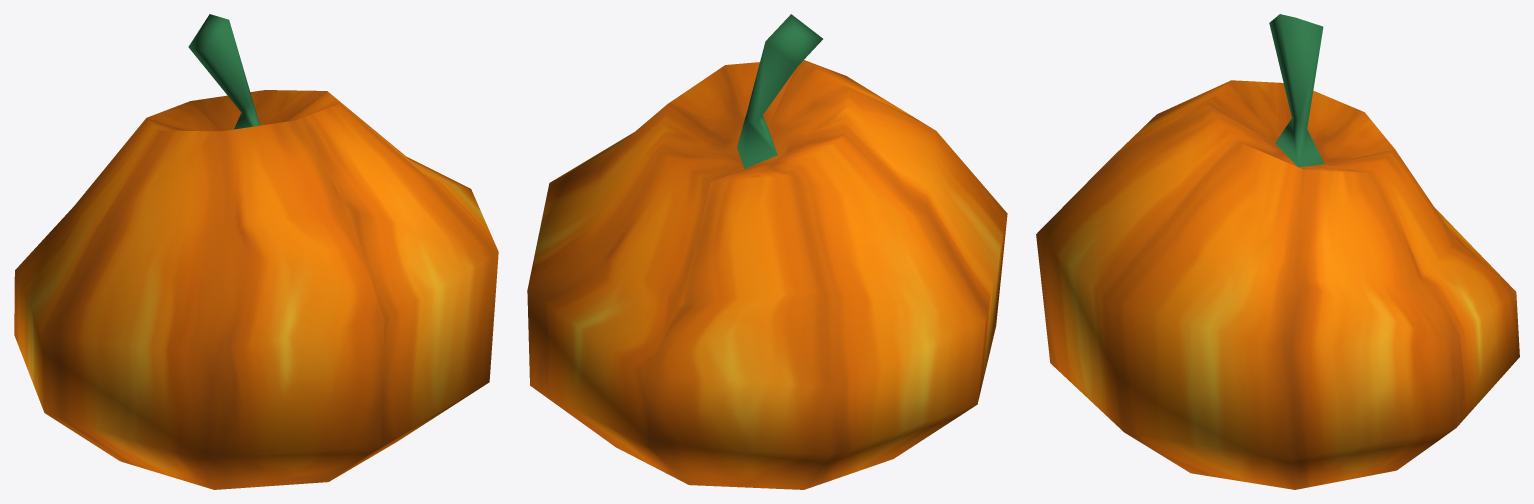
Rendered from SM_PROP_food_pumpkin_02.FBX.
3 renders of one model, left to right at view 1: azimuth 30°, elevation 25°; view 2: azimuth 150°, elevation 25°; view 3: azimuth 270°, elevation 25°, orthographic. The views are drawn at different scales.
Visible parts, largest first — view 1: SM_PROP_food_pumpkin_02; view 2: SM_PROP_food_pumpkin_02; view 3: SM_PROP_food_pumpkin_02.
Boxes of the visible parts, box(x1,y1,x2,y2) form: SM_PROP_food_pumpkin_02: box(14, 14, 498, 489); SM_PROP_food_pumpkin_02: box(527, 14, 1007, 489); SM_PROP_food_pumpkin_02: box(1036, 14, 1519, 489).
Size of the model in its own units: 38.53 by 38.73 by 35.55.
